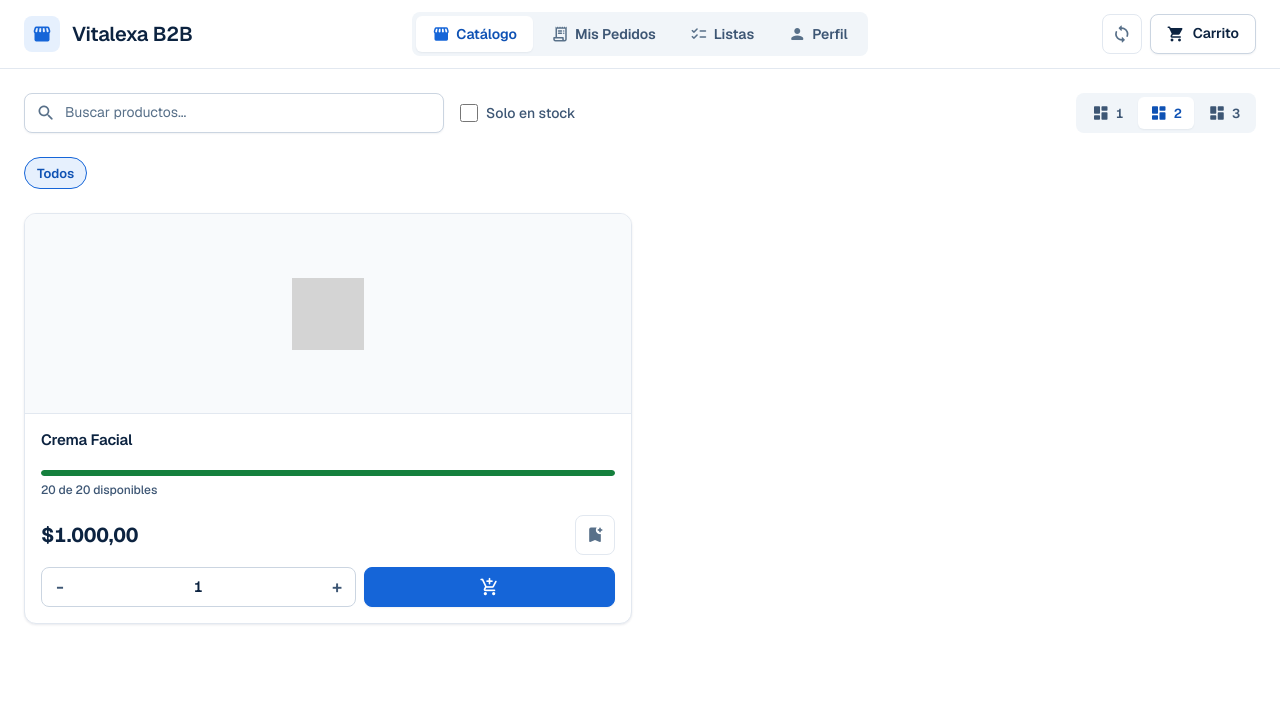
Test: mis pedidos: "Actualizar" reemplaza la lista sin esqueleto
Check: the heading "Crema Facial" is shown, box [41,430,132,450]
Click the button "Mis Pedidos". click: (603, 34)
box: [535,16,672,52]
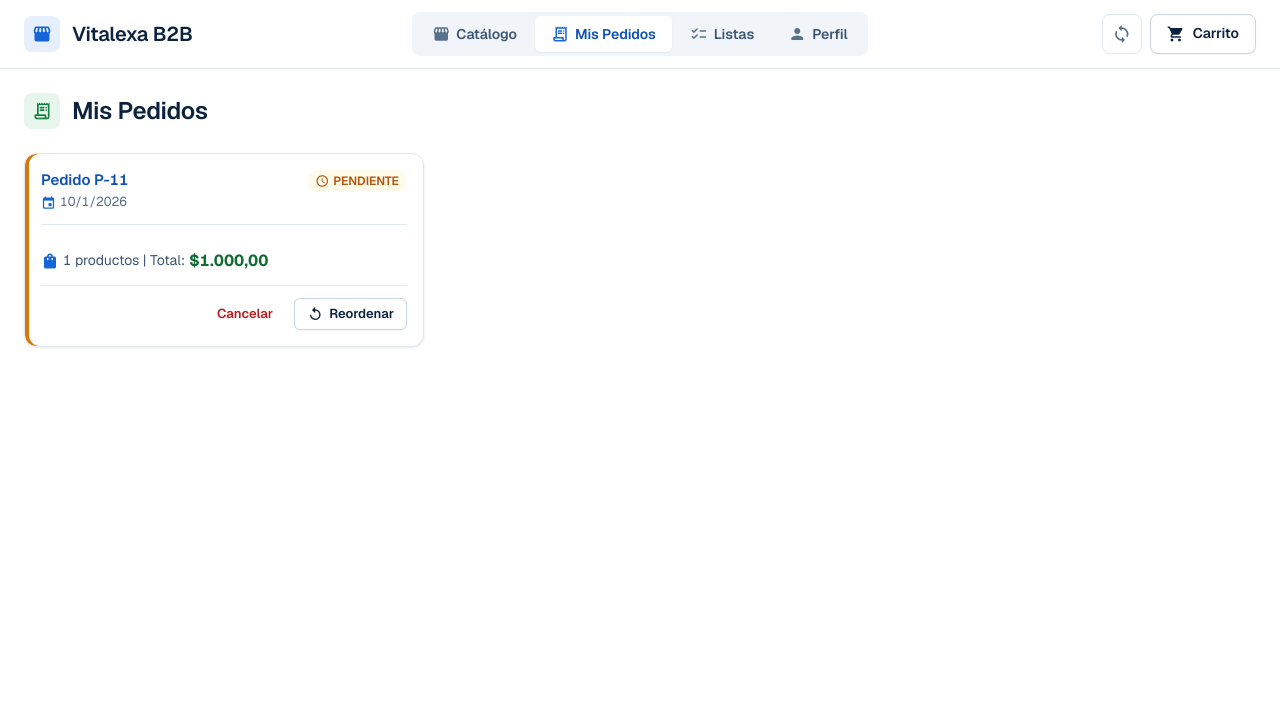
Check: the text "Pedido P-11" is shown, box [41,170,128,190]
Click the button named "Actualizar datos". click: (1122, 34)
box: [1102,14,1142,54]
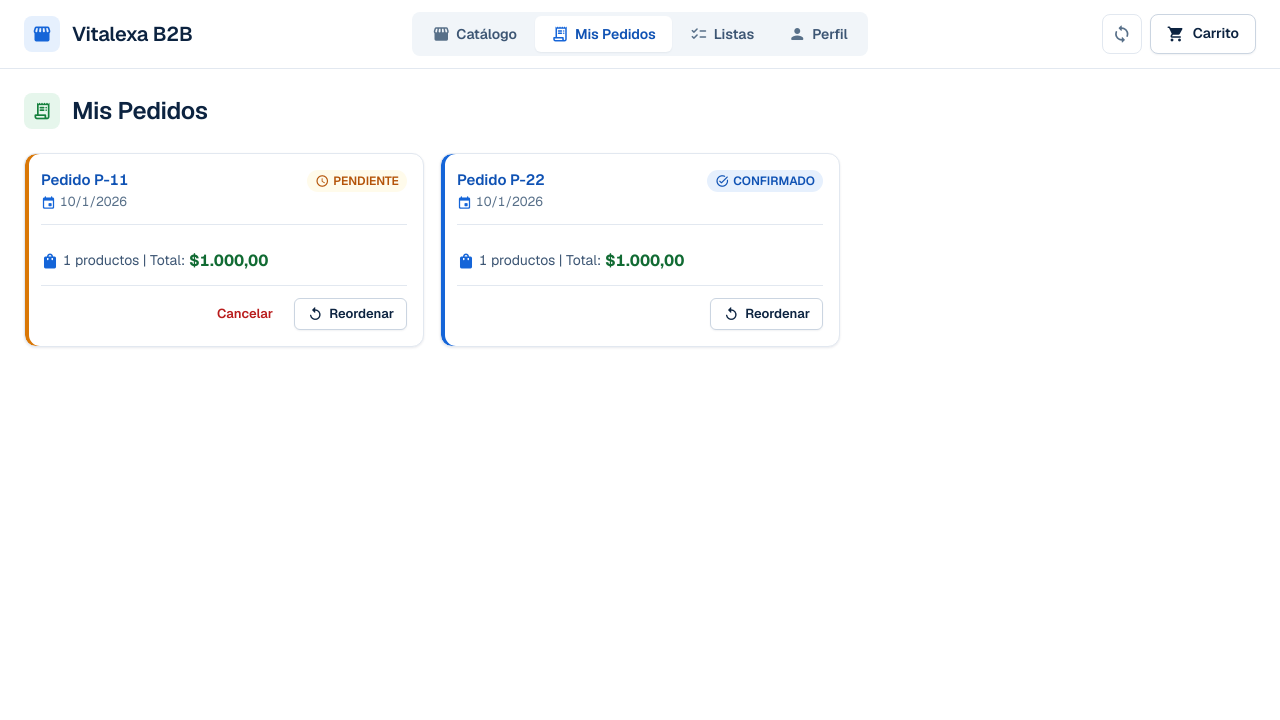
Check: the text "Pedido P-11" is shown, box [41,170,128,190]
Check: the text "Pedido P-22" is shown, box [457,170,544,190]
